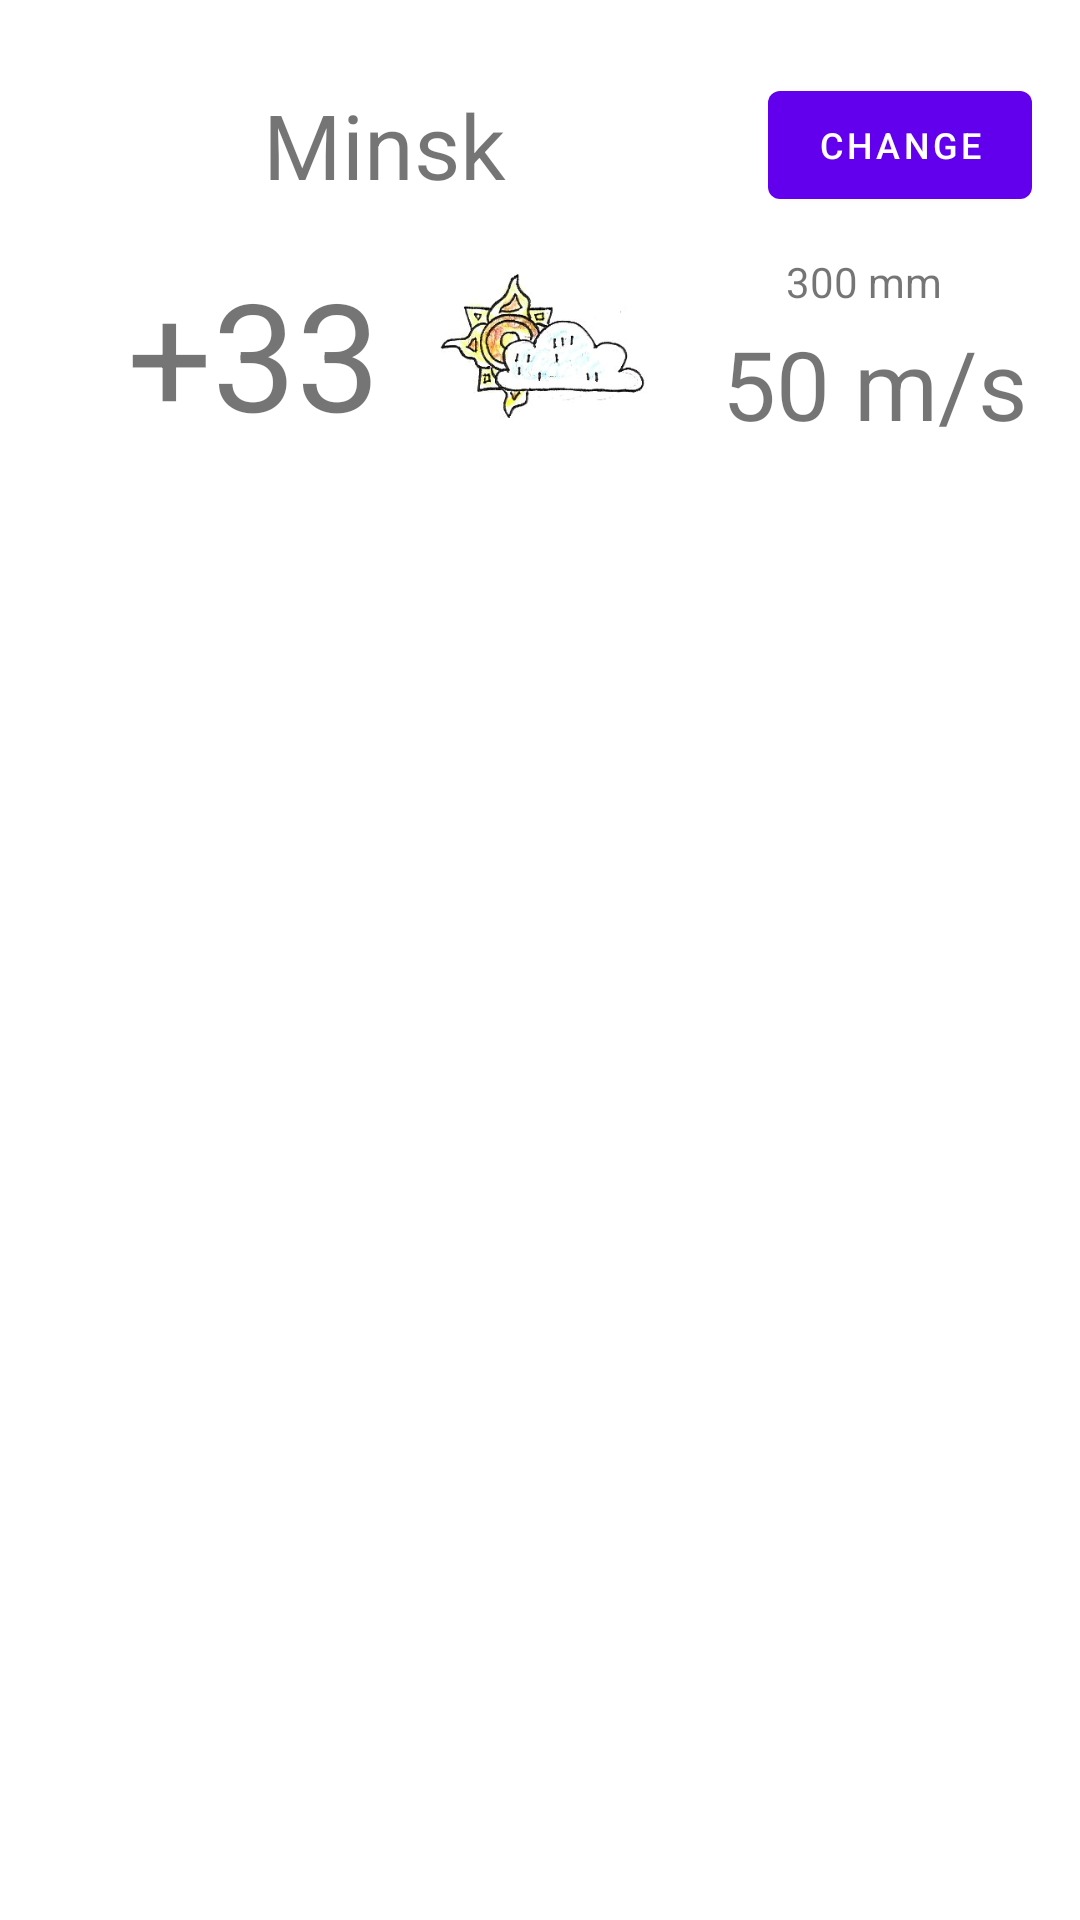

Named icons in this screenshot (1080 × 1920) and their bounding boxes, rect(x1, y1, x2, y2):
cloud few: rect(440, 274, 644, 418)
